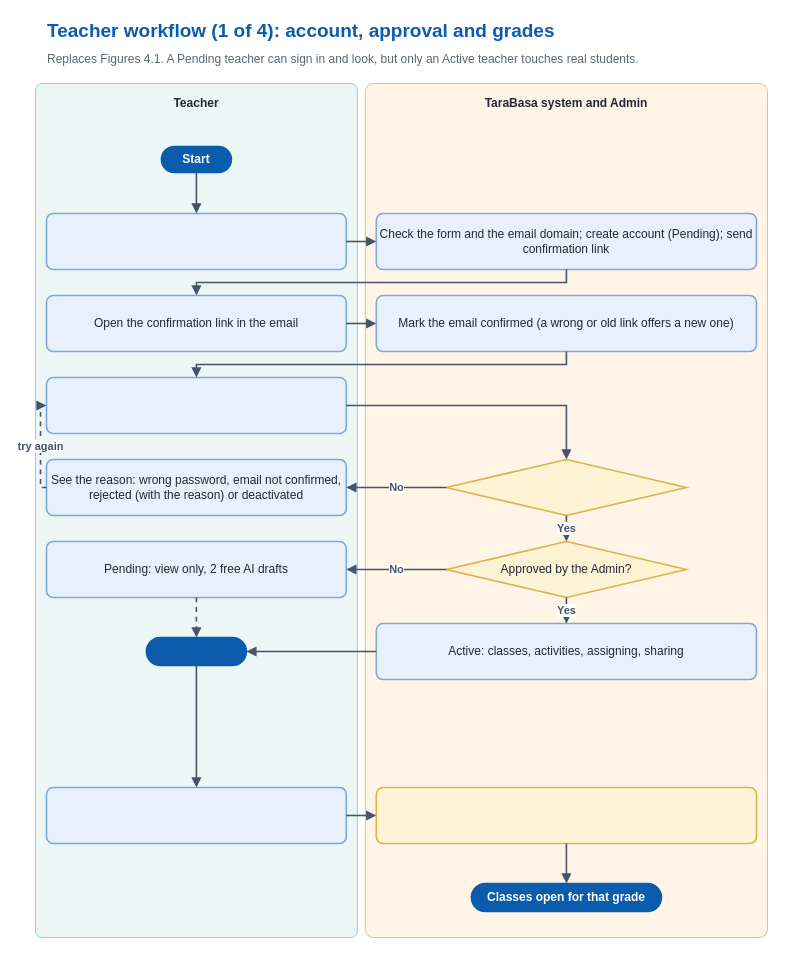
Some shapes in this 785 by 955 pixel diagram are drawn without their labels. Here are the shapes that lost their labels. From the top down, the box of each, then its label:
(45, 212, 347, 270): Sign up: name, school, employee ID, grades, email
(45, 376, 347, 434): Sign in with email and password
(445, 458, 687, 516): Sign in allowed?
(145, 636, 247, 666): Dashboard
(45, 786, 347, 844): Later: ask to add a grade; say who at school can confirm it
(375, 786, 757, 844): Admin approves or declines; the teacher is told
